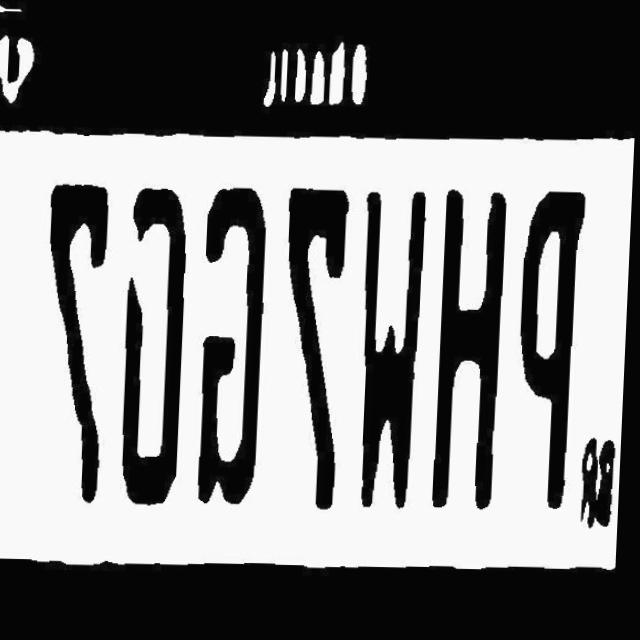0: (112, 184, 194, 506)
7: (32, 180, 126, 496), (271, 185, 359, 510)
g: (185, 184, 277, 506)
h: (431, 184, 513, 504)
p: (509, 181, 592, 509)
w: (351, 187, 434, 514)
